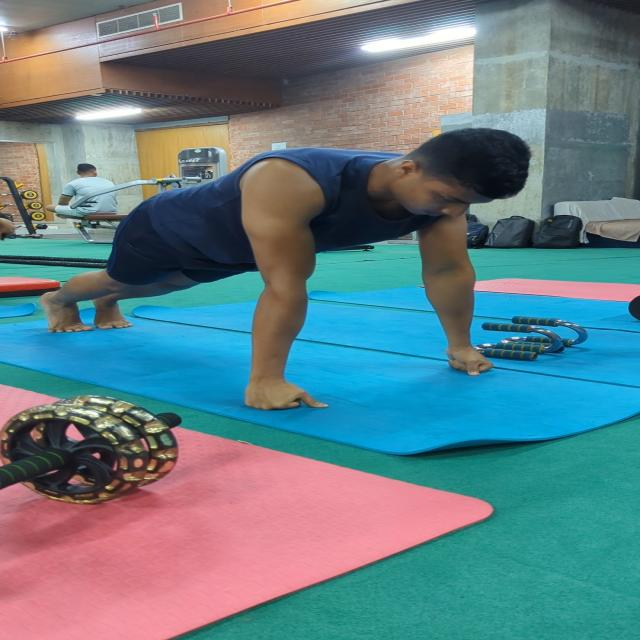Normal_PushUps: (36, 123, 542, 417)
